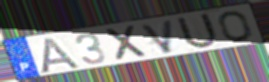3: (75, 32, 107, 65)
A: (38, 35, 83, 75)
O: (217, 9, 255, 43)
U: (174, 12, 220, 50)
V: (139, 18, 175, 55)
X: (103, 23, 150, 63)
